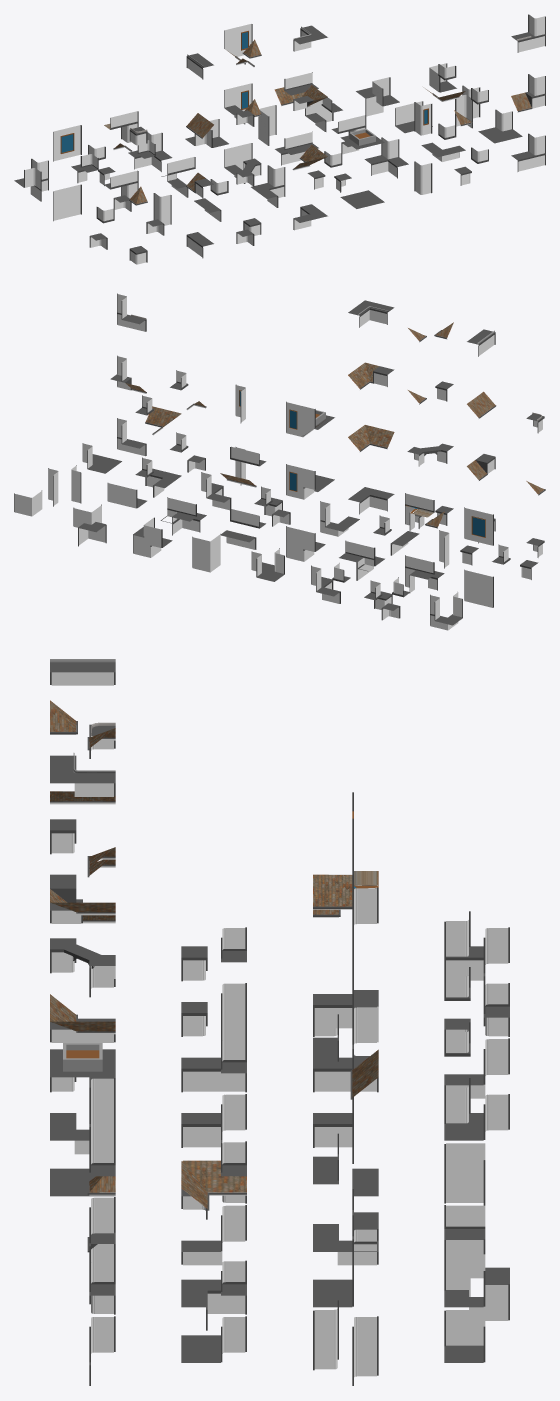
File: MarchingCubeHouseKit.fbx
The picture shows the model from 3 angles, top to bottom: view 1: azimuth 30°, elevation 25°; view 2: azimuth 150°, elevation 25°; view 3: azimuth 270°, elevation 25°; orthographic projection. The views are drawn at different scales.
Visible parts, largest first — view 1: Cube_91, Cube_125, Cube_27, Cube_51, Cube_51_2, Cube_19_2, Cube_90, Cube_87, Cube_53, Cube_23, Cube_19, Cube_19_3 (+38 smaller); view 2: Cube_125, Cube_61, Cube_51, Cube_51_2, Cube_55, Cube_55_2, Cube_123, Cube_119, Cube_90, Cube_55_3, Cube_54, Cube_53 (+30 smaller); view 3: Cube_125, Cube_85, Cube_87, Cube_30_2, Cube_95, Cube_22, Cube_30, Cube_61, Cube_119, Cube_90, Cube_91, Cube_23 (+31 smaller).
Part boxes in pixels (x1,y1,x2,y2): Cube_91: (128, 132, 172, 171); Cube_125: (356, 77, 399, 116); Cube_27: (364, 137, 408, 178); Cube_51: (53, 184, 81, 221); Cube_51_2: (53, 125, 81, 161); Cube_19_2: (511, 74, 545, 112); Cube_90: (71, 145, 115, 185); Cube_87: (14, 158, 48, 201); Cube_53: (104, 170, 138, 211); Cube_23: (251, 165, 285, 207); Cube_19: (511, 133, 545, 171); Cube_19_3: (511, 14, 545, 52); Cube_125: (73, 504, 106, 546); Cube_61: (160, 497, 206, 535); Cube_51: (464, 569, 493, 607); Cube_51_2: (464, 507, 493, 545); Cube_55: (286, 526, 325, 561); Cube_55_2: (286, 464, 325, 499); Cube_123: (133, 517, 172, 557); Cube_119: (192, 534, 220, 572); Cube_90: (364, 577, 409, 620); Cube_55_3: (286, 401, 323, 437); Cube_54: (339, 540, 384, 580); Cube_53: (405, 555, 444, 593); Cube_125: (444, 1254, 509, 1320); Cube_85: (313, 1300, 378, 1385); Cube_87: (444, 911, 509, 993); Cube_30_2: (181, 1141, 246, 1210); Cube_95: (444, 1078, 509, 1140); Cube_22: (181, 1038, 246, 1092); Cube_30: (181, 1260, 246, 1330); Cube_61: (313, 1189, 378, 1265); Cube_119: (444, 1143, 485, 1203); Cube_90: (444, 967, 509, 1036); Cube_91: (444, 1022, 509, 1098); Cube_23: (181, 1094, 246, 1151).
Bounding box in the file's own units: 1500 × 645 × 700.
